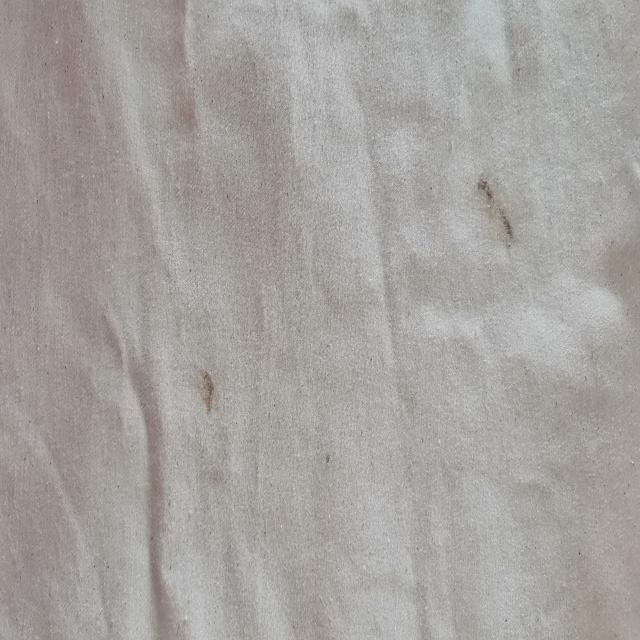taaaches: (473, 161, 522, 263), (194, 357, 221, 422)
